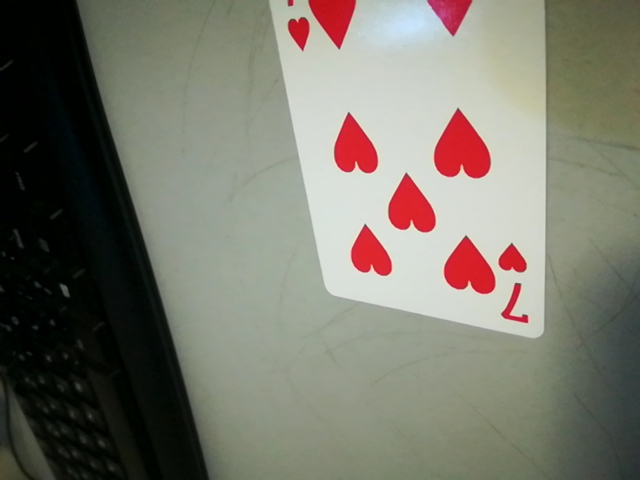hx 7: (490, 241, 541, 332)
